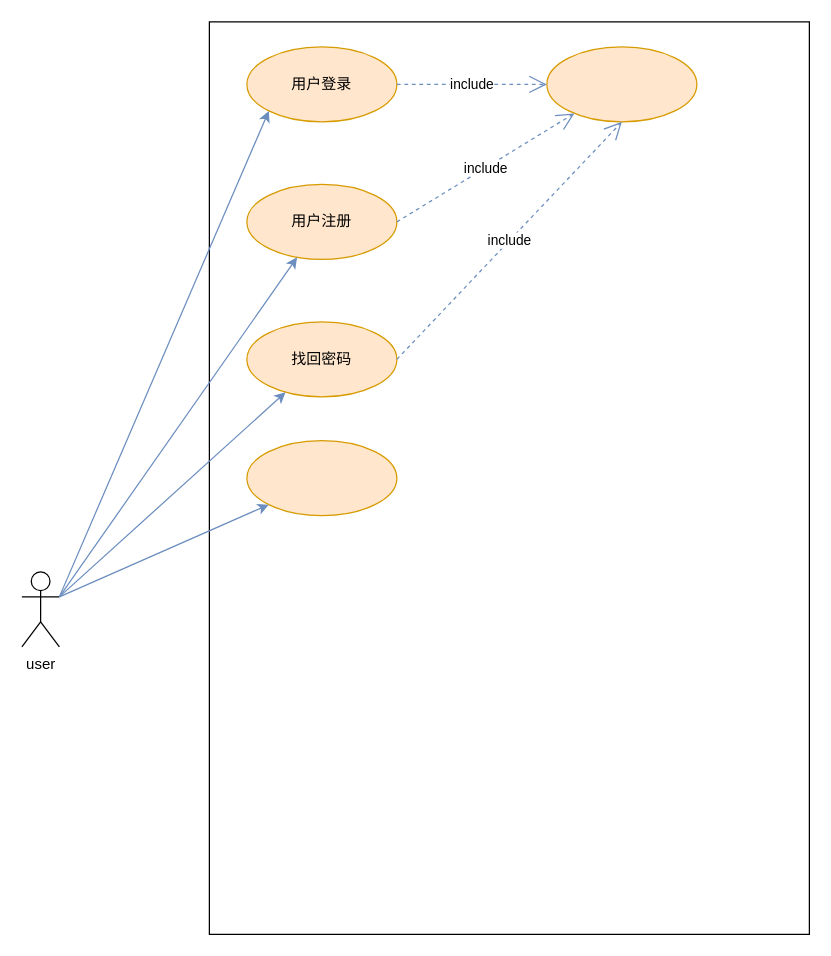
This 831x956 diagram has some shape labels left out. Each missing label, with the centre of its shape:
"菜品分类" goes at (321,477).
"邮箱验证码" goes at (621,84).
